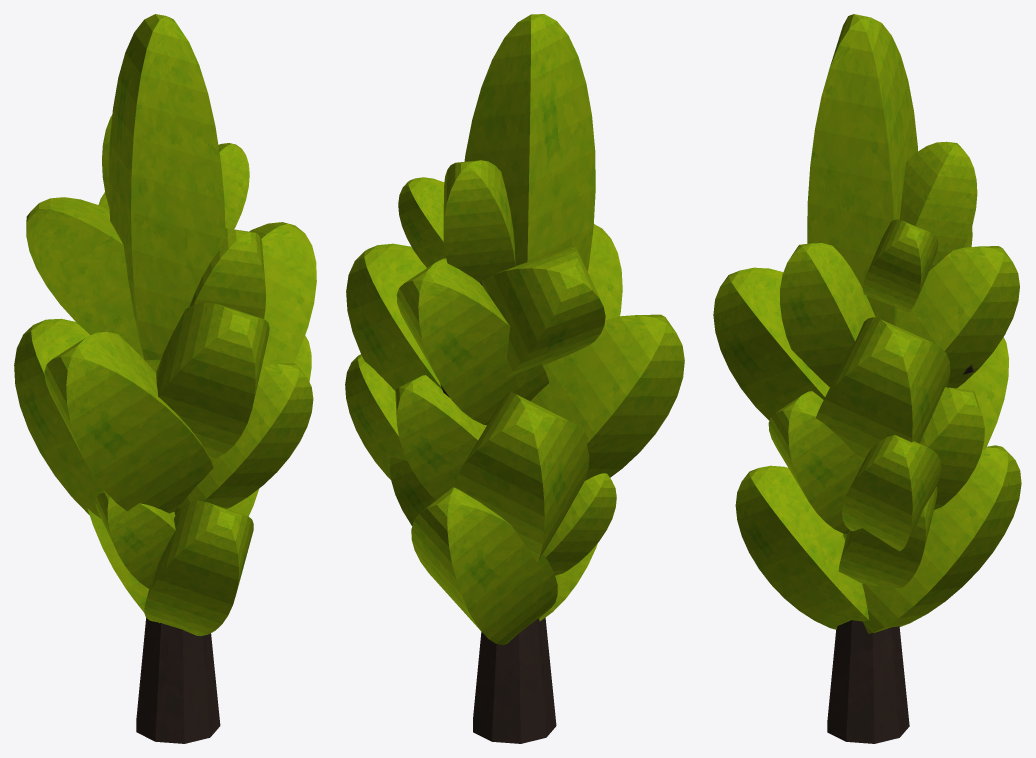
Rendered from tree-bright-green-flowers_8.fbx.
3 renders of one model, left to right at view 1: azimuth 30°, elevation 25°; view 2: azimuth 150°, elevation 25°; view 3: azimuth 270°, elevation 25°, orthographic. The views are drawn at different scales.
Visible parts, largest first — view 1: Sphere.016; view 2: Sphere.016; view 3: Sphere.016.
Part boxes in pixels (x1,y1,x2,y2): Sphere.016: [14, 14, 316, 743]; Sphere.016: [345, 14, 684, 743]; Sphere.016: [713, 14, 1021, 743].
Bounding box in the file's own units: 178 × 424 × 169.
